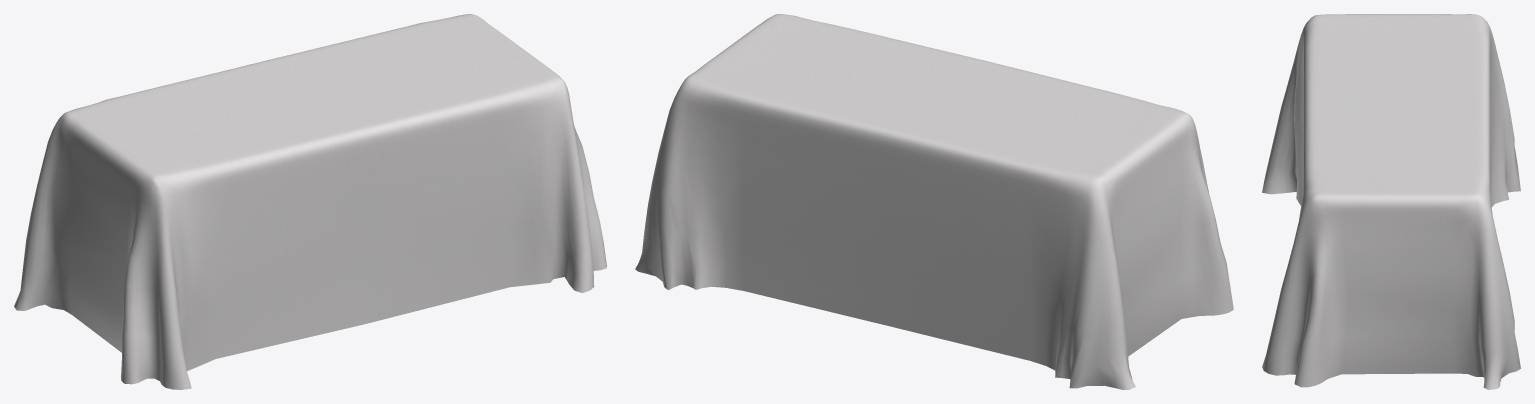
The model's file is EventTable01Cloth02.FBX.
The picture shows the model from 3 angles, left to right: view 1: azimuth 30°, elevation 25°; view 2: azimuth 150°, elevation 25°; view 3: azimuth 270°, elevation 25°; orthographic projection. The views are drawn at different scales.
Parts seen in each view (by area): view 1: EventTable01Cloth02; view 2: EventTable01Cloth02; view 3: EventTable01Cloth02.
Boxes of the visible parts, x1,y1,x2,y2 form: EventTable01Cloth02: (14,14,606,389); EventTable01Cloth02: (635,14,1233,389); EventTable01Cloth02: (1262,14,1520,389).
Size of what is drawn, in the model's own units: 2.42 by 0.8983 by 1.2.
